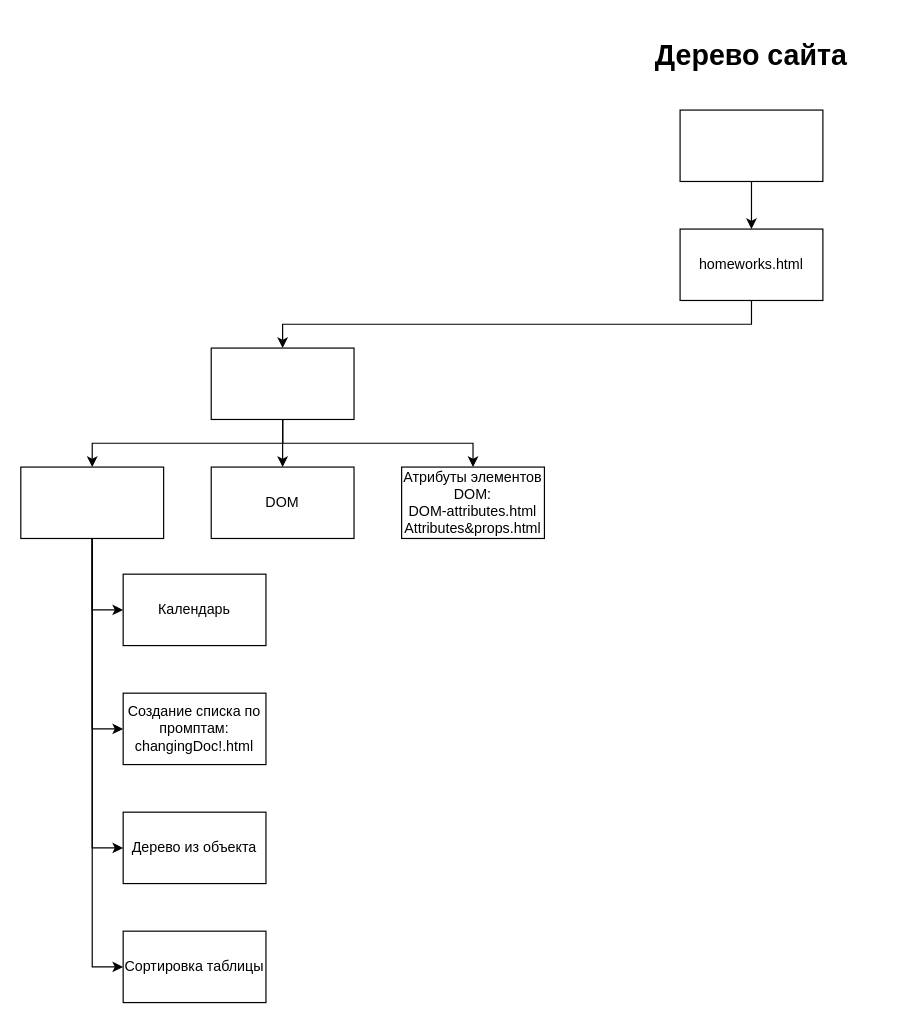
This 913x1023 diagram has some shape labels left out. The shapes that lost their labels are listed below. From the top down, each one's centre as x and y in pixels, then its label:
the point at 751,145: index.html
the point at 282,383: Документ
the point at 92,502: Изменение документа: changing doc/index
